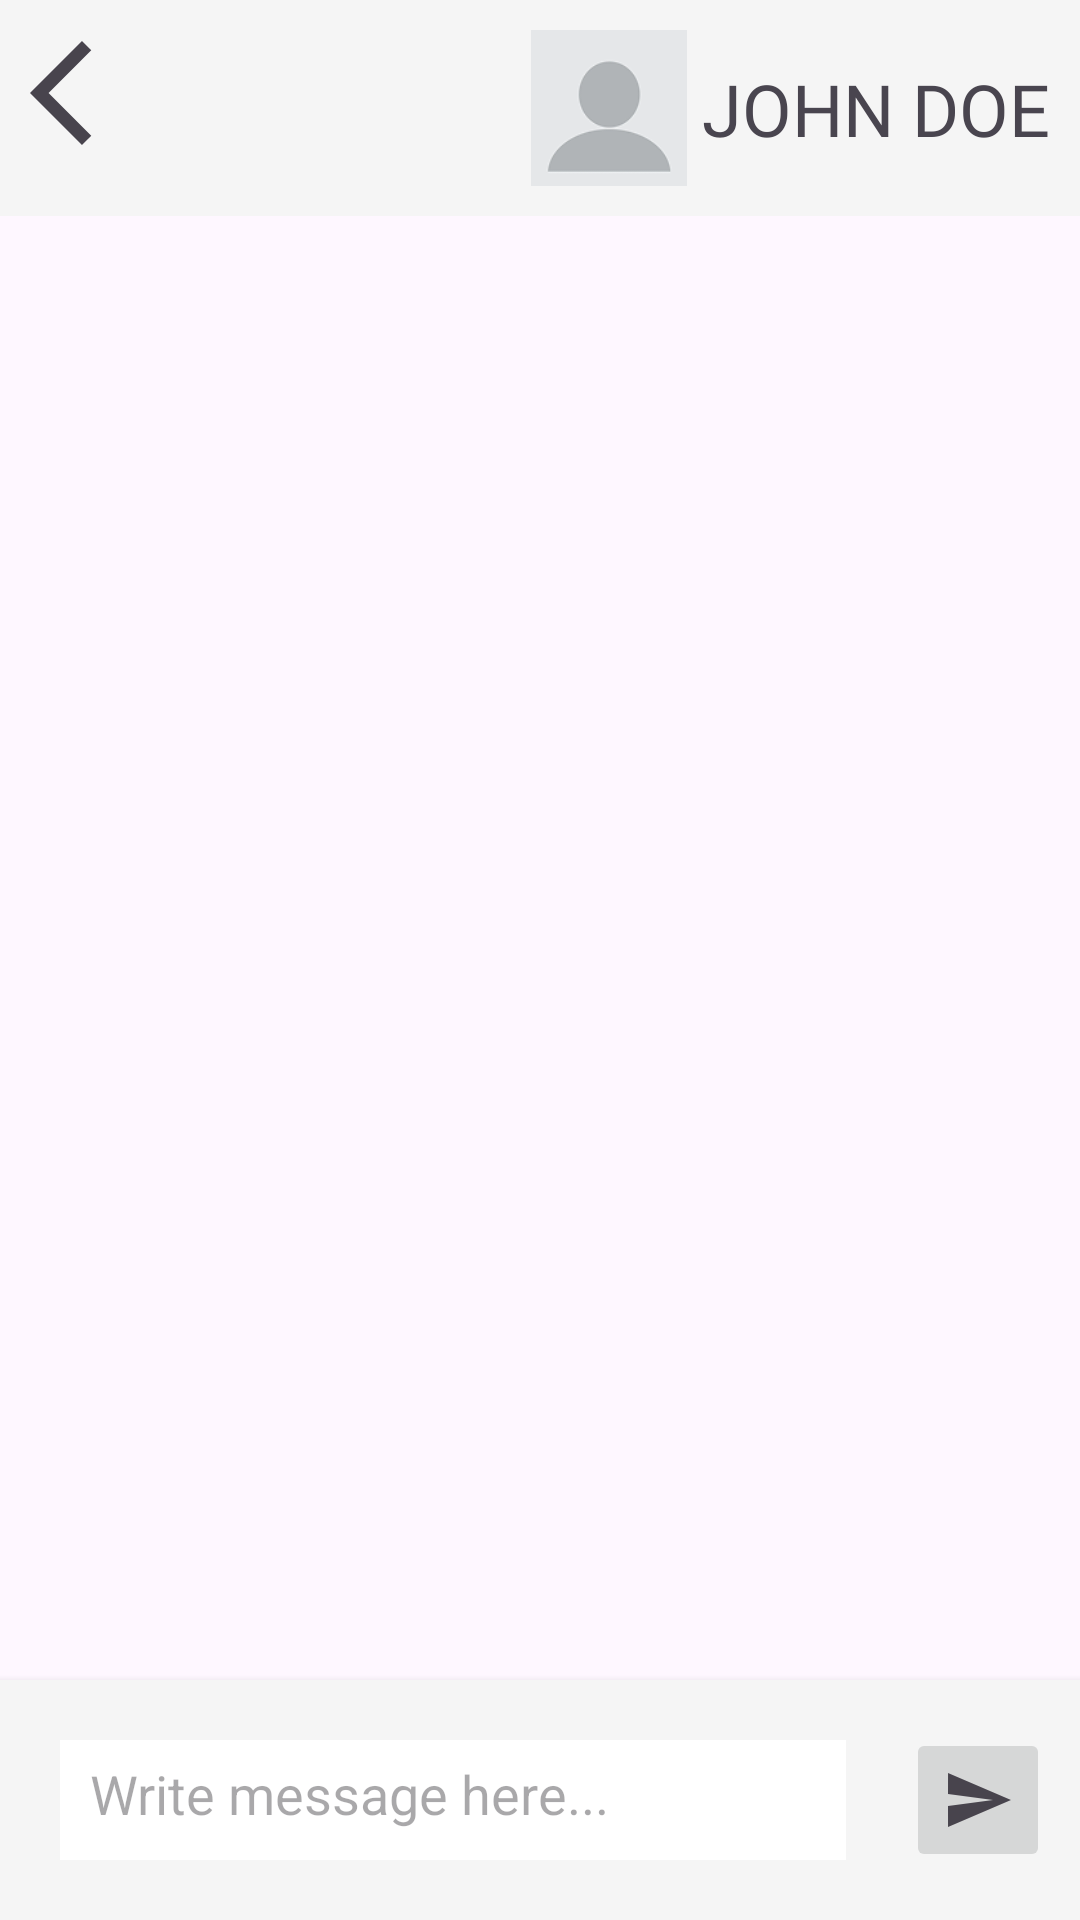

Where icons sit on this 1080×1920 app screen, as (x1, y1, x2, y2):
back arrow: (30, 41, 91, 145)
def profile: (548, 61, 671, 172)
send: (918, 1746, 1038, 1854)
